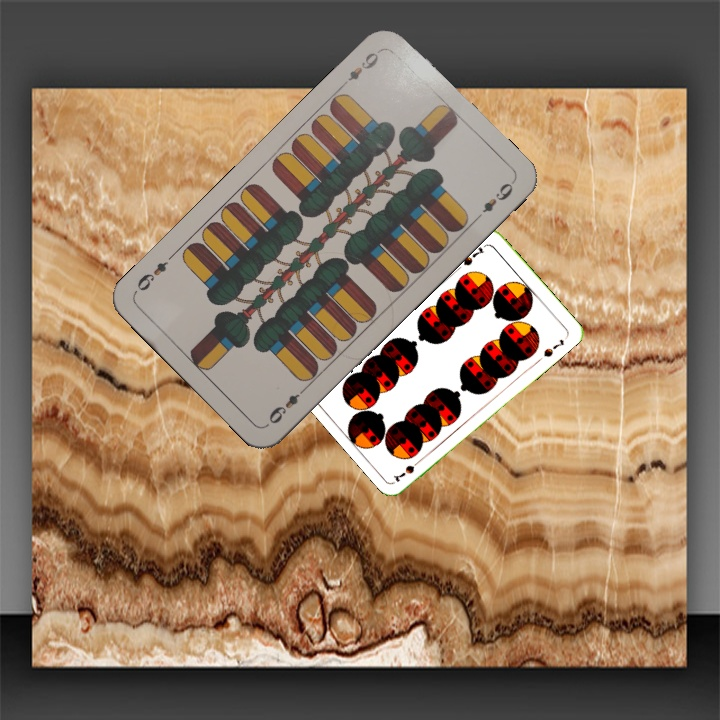E9: (264, 382, 310, 427), (337, 48, 382, 90)
S7: (390, 454, 425, 484), (459, 243, 486, 268)
